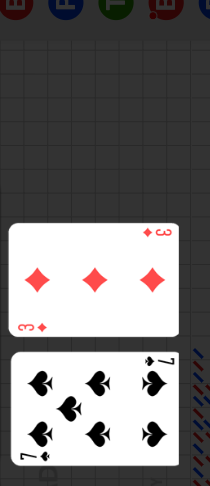3D: (140, 227, 173, 239)
7S: (17, 450, 51, 464)
